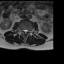CCS_normal: (24, 28, 26, 35)
LFS_stenosis: (28, 28, 30, 33)
LLS_normal: (26, 28, 28, 33)
RFS_stenosis: (21, 28, 23, 33)
RLS_stenosis: (23, 28, 24, 33)
